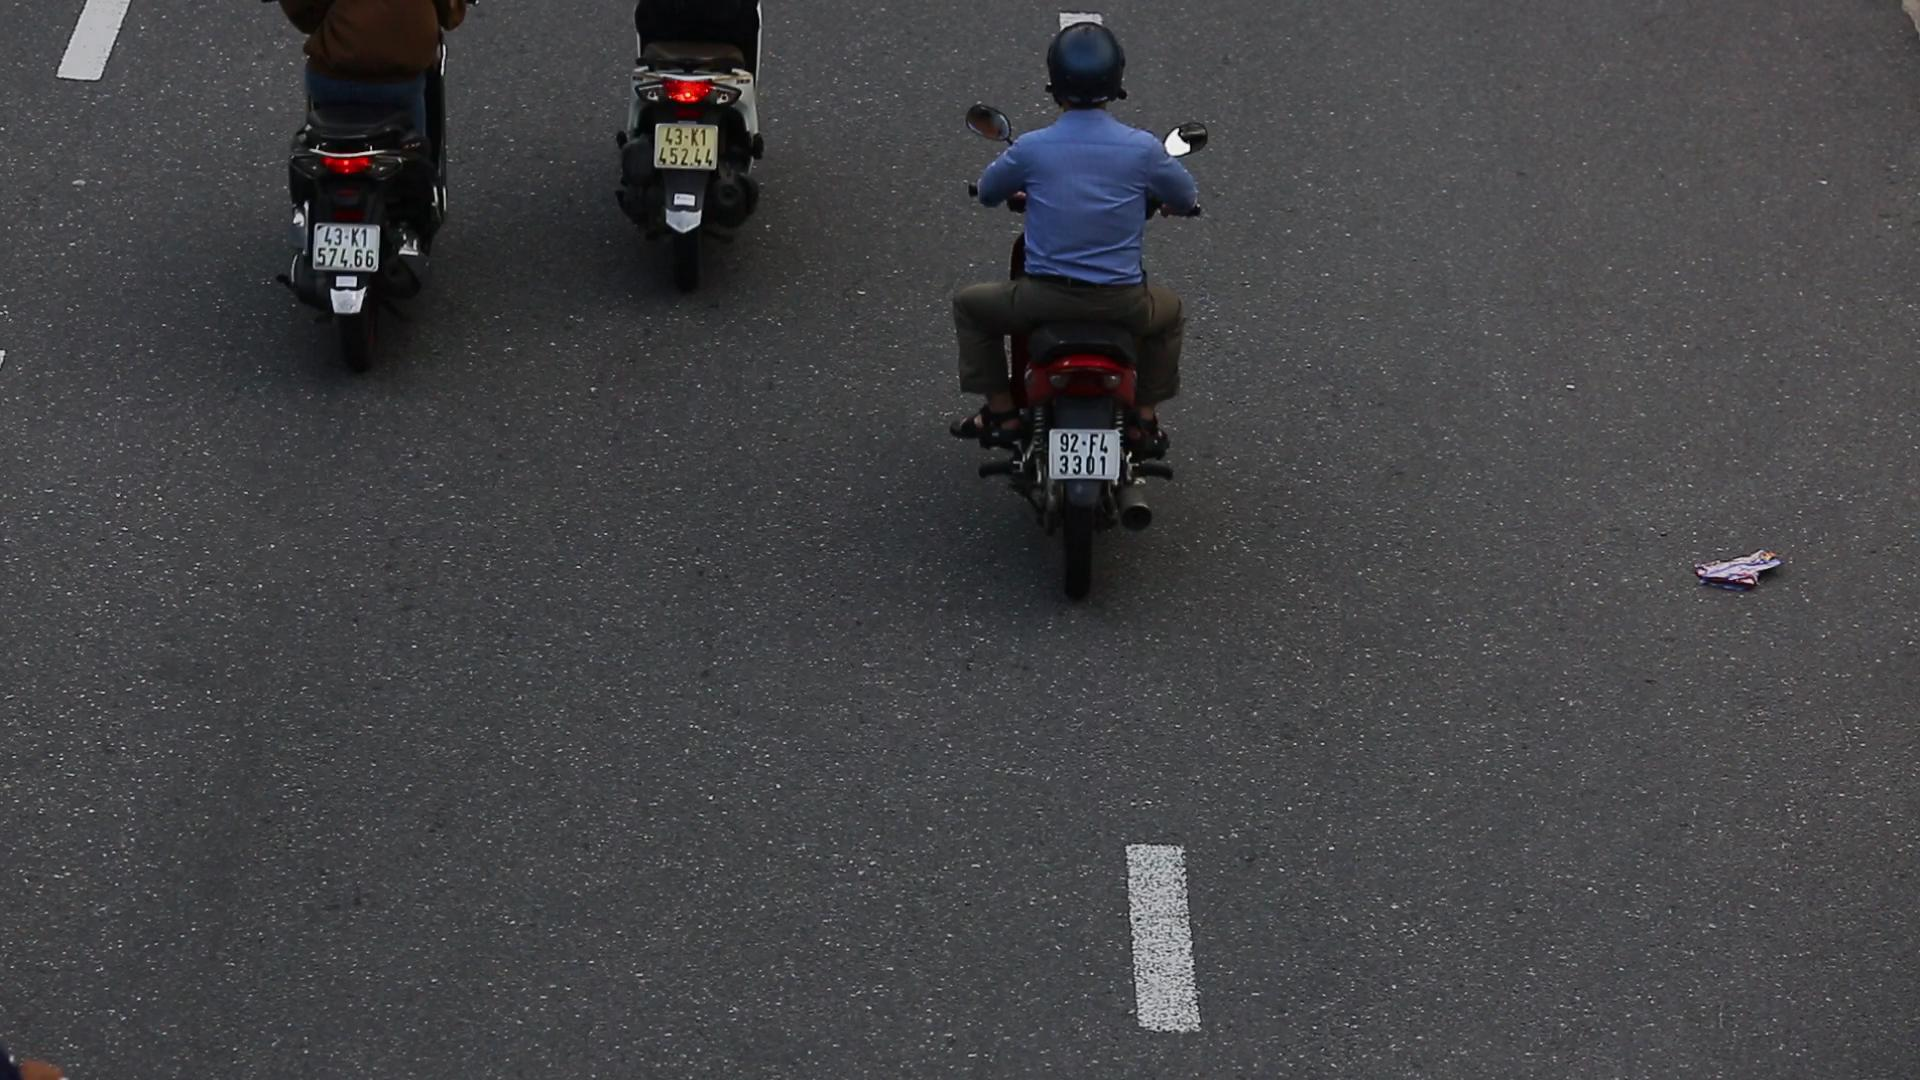motobike: (928, 8, 1229, 613)
